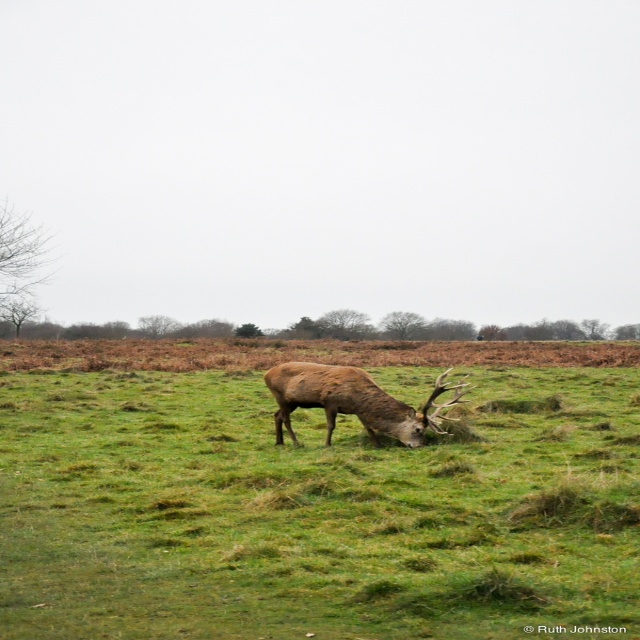Deer: (261, 358, 473, 446)
